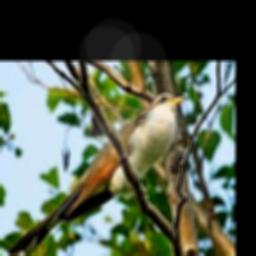Cuckoo: (8, 94, 188, 256)
